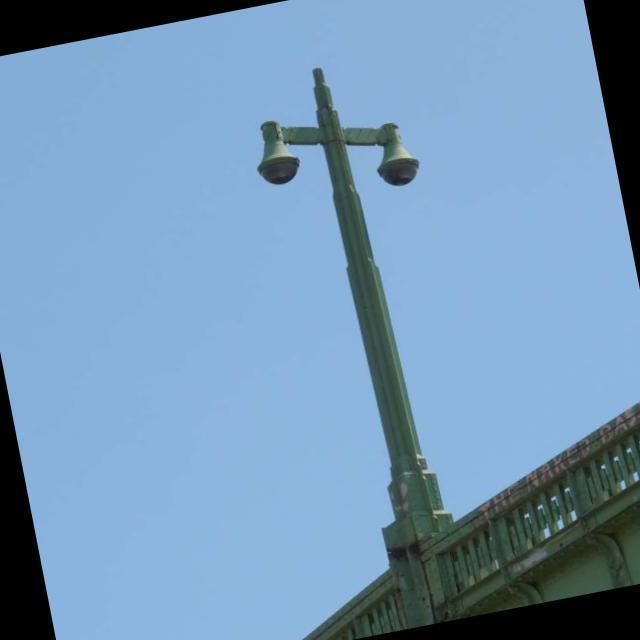off: (180, 66, 460, 218)
